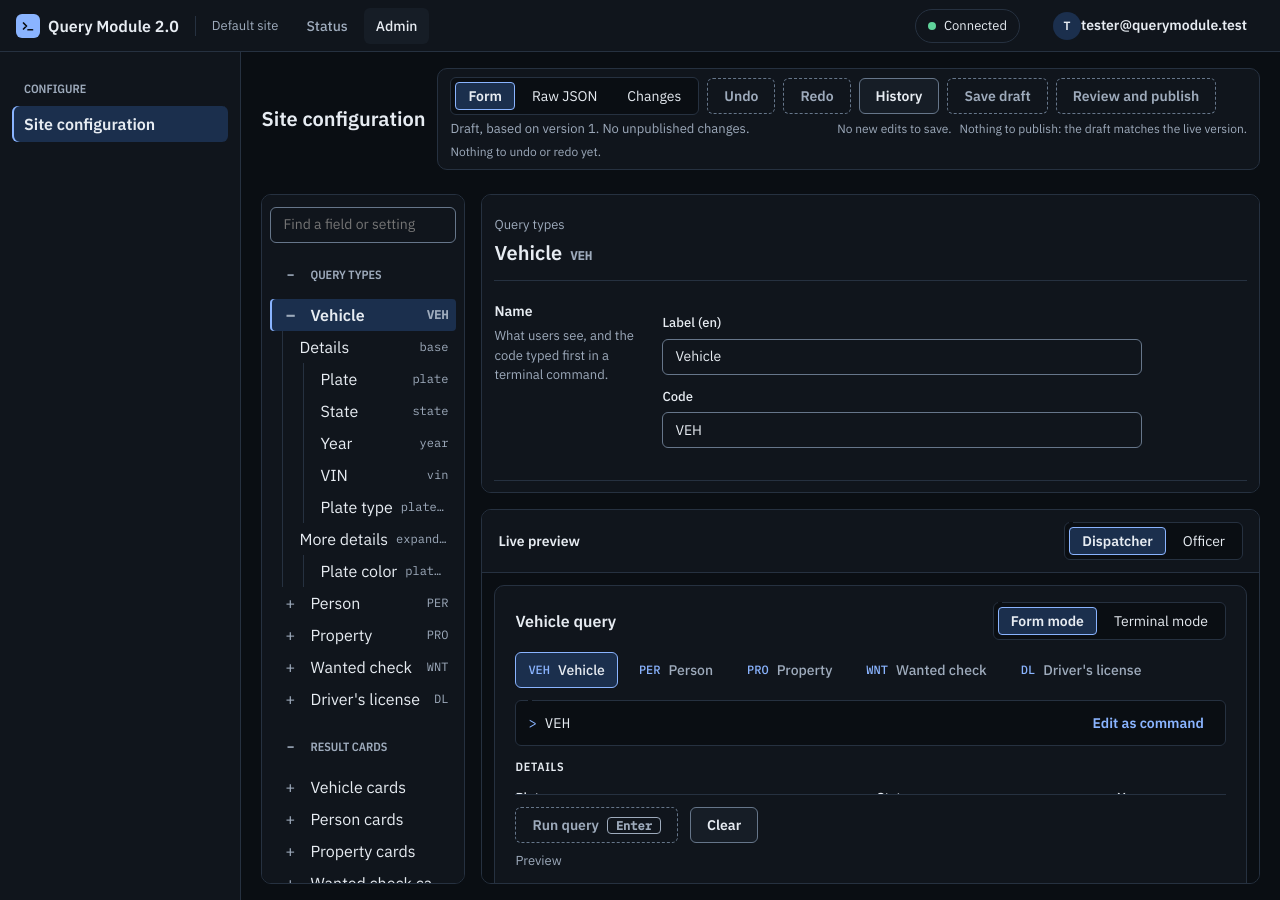
Scenario: builder tree (A-D1 A2, FR-060, UX-004) › search filters on label and key, keeps ancestors, and says when nothing matches
The image size is (1280, 900).
Expected: the tab "Form" is shown, [456,82,515,110]
Type "platety" into the search field labelled "Find a field or setting" at (363, 224), box [270,206,456,242]
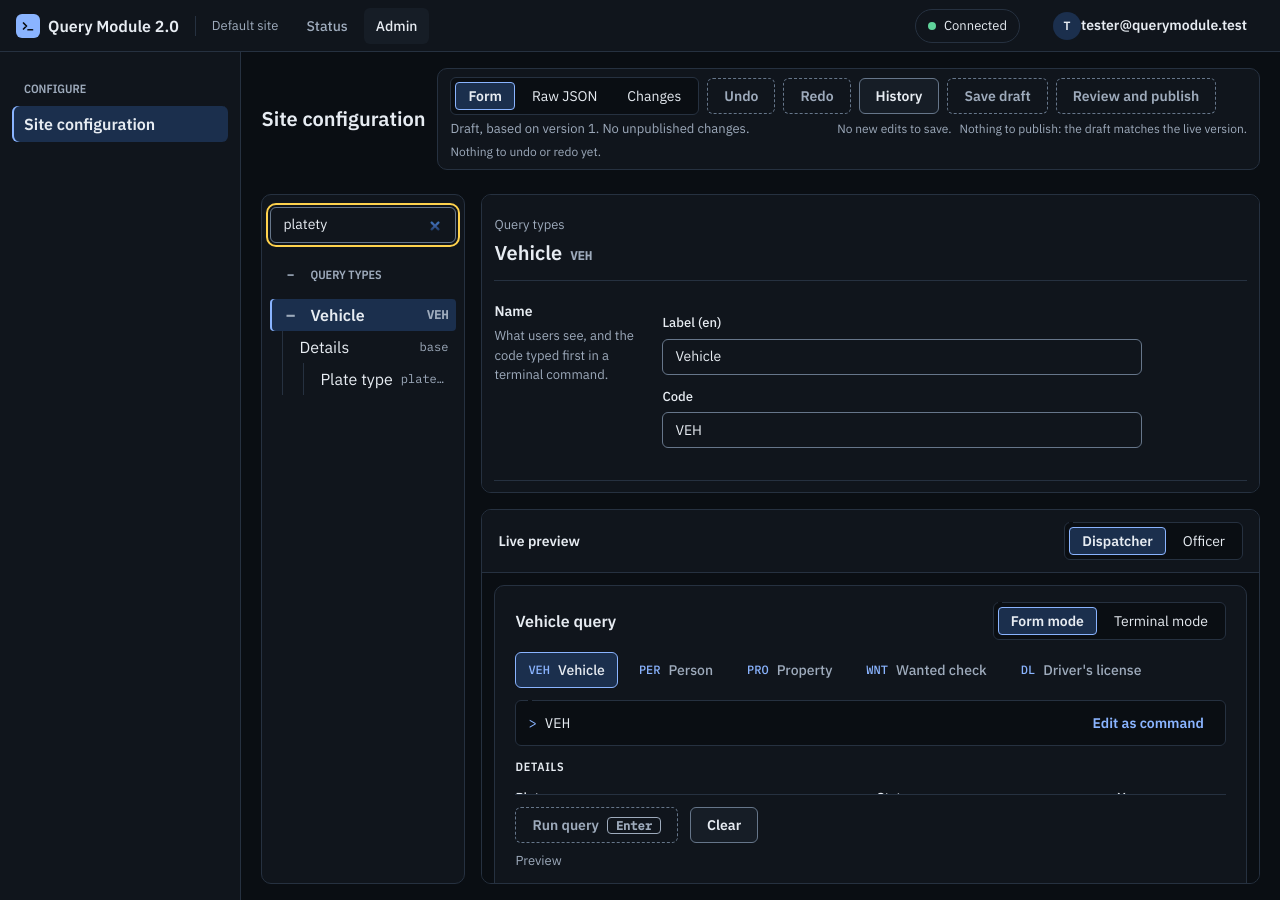
Expected: the list item "Plate type plateType" is shown, [312,362,456,394]
Expected: the list item "Person PER" is gone
Replace the text in the search field named "Find a field or setting" with "Plate col" at (363, 224), box [270,206,456,242]
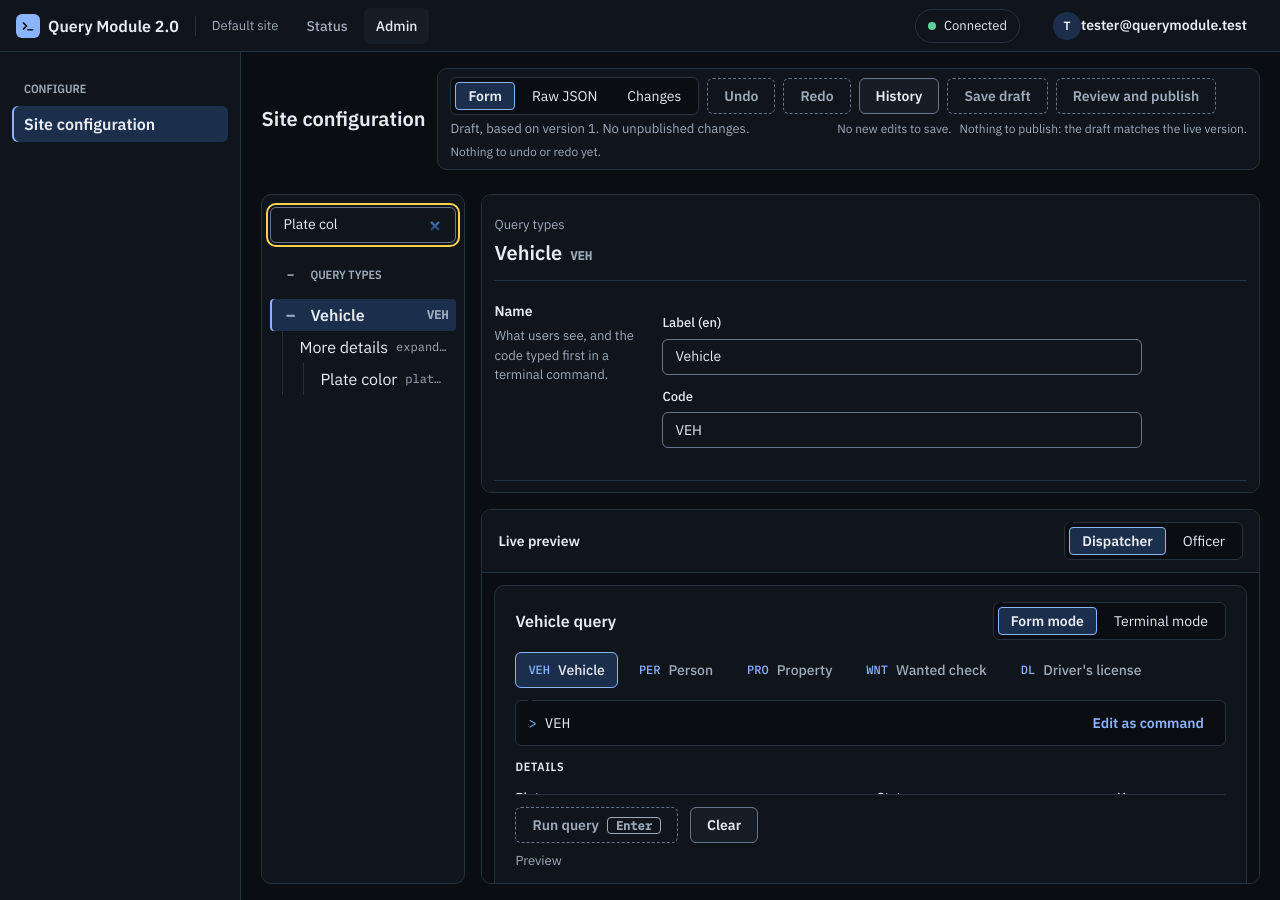
Expected: the list item "Plate color plateColor" is shown, [312,362,456,394]
Replace the text in the search field named "Find a field or setting" with "zzqx" at (363, 224), box [270,206,456,242]
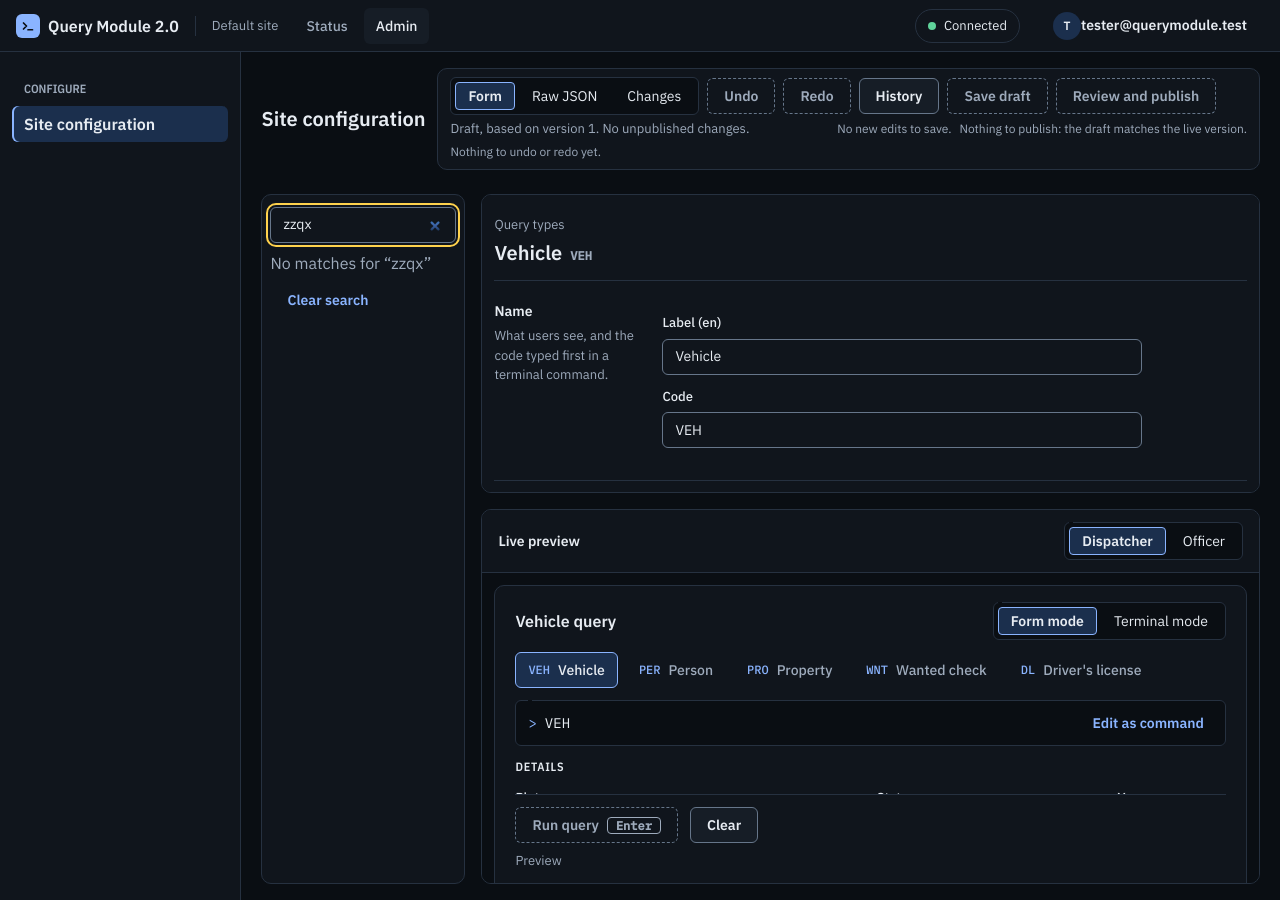
Expected: the text "No matches for “zzqx”" is shown, [270,250,456,274]
Click the button "Clear search" at (328, 300), box [270,282,385,318]
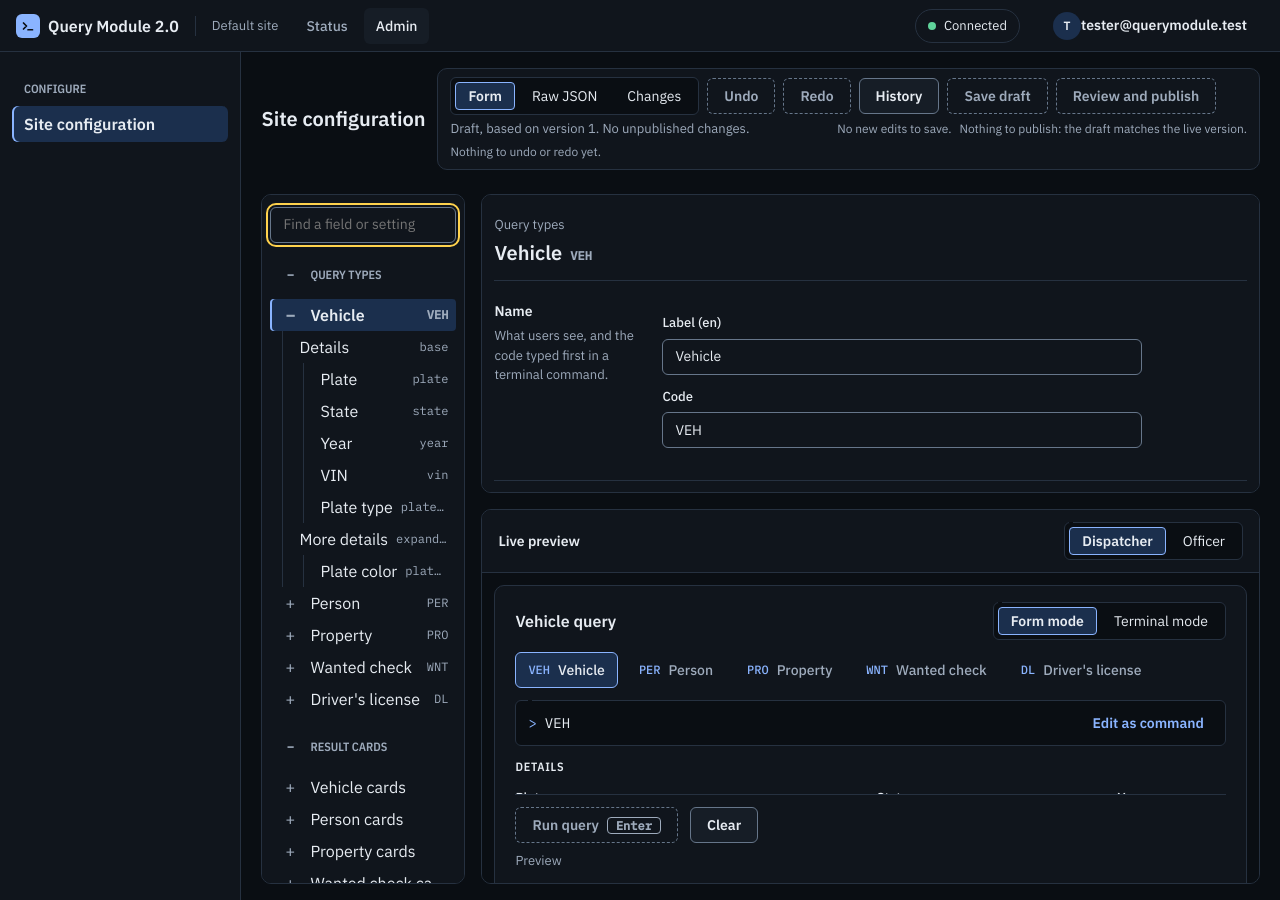
Expected: the list item "Person PER" is shown, [270,586,456,618]
